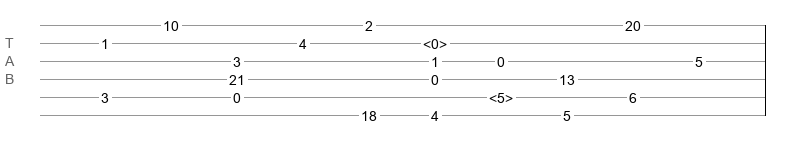0: (233, 90, 241, 100), (431, 72, 439, 82), (497, 54, 505, 64)
1: (101, 36, 109, 46), (431, 54, 439, 64)
10: (163, 18, 179, 28)
13: (559, 72, 575, 82)
18: (361, 108, 377, 118)
2: (365, 18, 373, 28)
20: (625, 18, 641, 28)
21: (229, 72, 245, 82)
3: (101, 90, 109, 100), (233, 54, 241, 64)
4: (299, 36, 307, 46), (431, 108, 439, 118)
5: (563, 108, 571, 118), (695, 54, 703, 64)
6: (629, 90, 637, 100)
harmonic: (423, 36, 447, 46), (489, 90, 513, 100)
